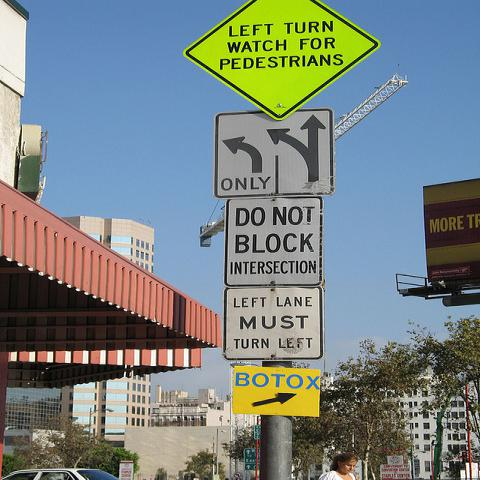car: (2, 468, 122, 479)
